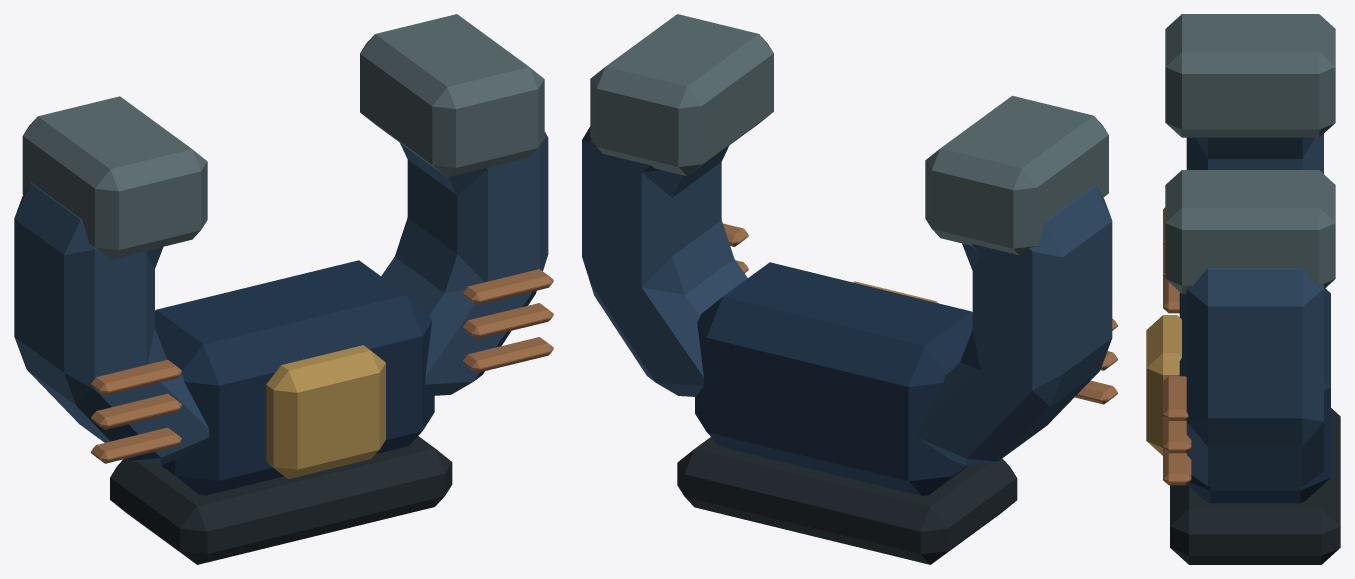
File: MAGNET_PICKUP.lo.glb
3 renders of one model, left to right at view 1: azimuth 30°, elevation 25°; view 2: azimuth 150°, elevation 25°; view 3: azimuth 270°, elevation 25°, orthographic. The views are drawn at different scales.
Parts seen in each view (by area): view 1: Body_Mesh; view 2: Body_Mesh; view 3: Body_Mesh.
Boxes of the visible parts, x1=… form: Body_Mesh: x1=14, y1=14, x2=553, y2=564; Body_Mesh: x1=582, y1=14, x2=1117, y2=564; Body_Mesh: x1=1146, y1=14, x2=1340, y2=564.
Bounding box in the file's own units: 1.12 × 0.93 × 0.41.
